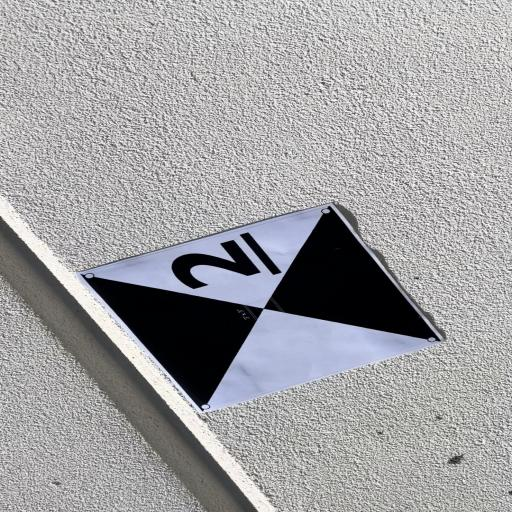target2: (75, 203, 444, 413)
